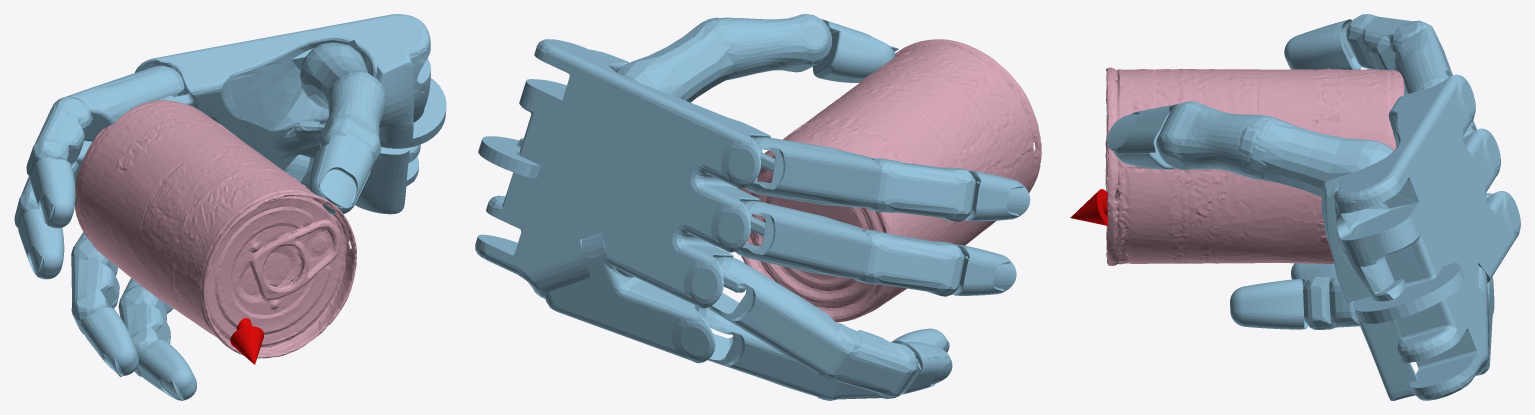
3 renders of one model, left to right at view 1: azimuth 30°, elevation 25°; view 2: azimuth 150°, elevation 25°; view 3: azimuth 270°, elevation 25°, orthographic. The views are drawn at different scales.
Parts seen in each view (by area): view 1: world, tomato_soup_can.stl; view 2: world, tomato_soup_can.stl; view 3: world, tomato_soup_can.stl.
Boxes of the visible parts, x1,y1,x2,y2 form: world: [14, 14, 446, 400]; tomato_soup_can.stl: [75, 100, 356, 358]; world: [475, 14, 1030, 400]; tomato_soup_can.stl: [737, 39, 1041, 322]; world: [1070, 14, 1520, 400]; tomato_soup_can.stl: [1105, 67, 1404, 265].
Bounding box in the file's own units: 0.1944 × 0.1168 × 0.1534.
